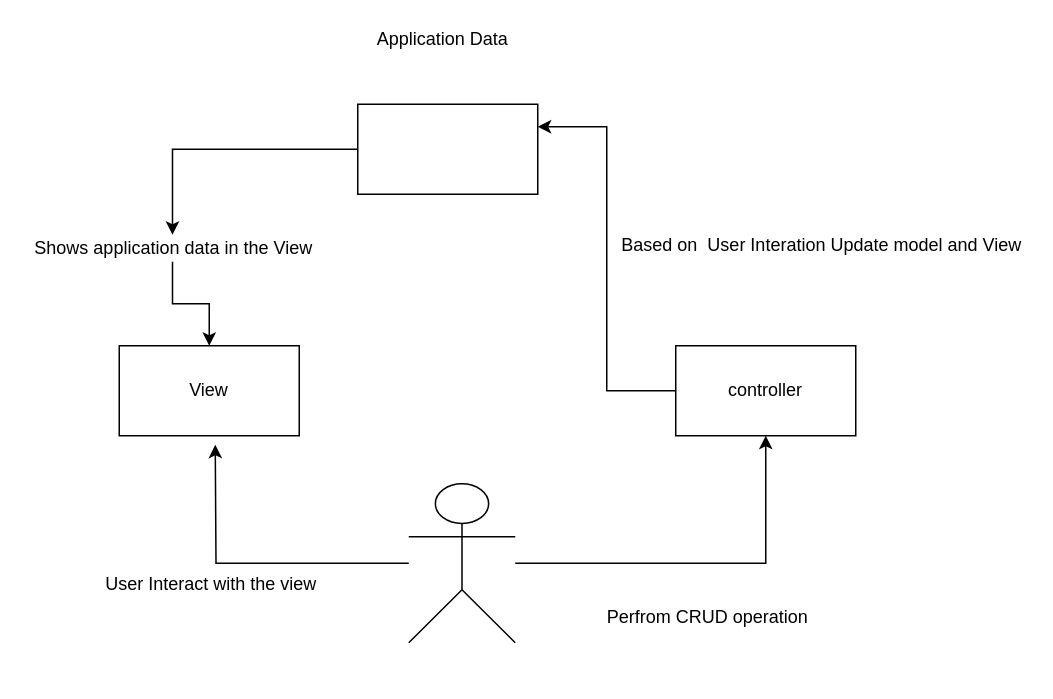
Image size: 1053x699. Some labels were removed from this diagram. The centre of each missing label's shape, as x and y in pixels:
"Model" belongs at point 447,148.
"User" belongs at point 461,562.
